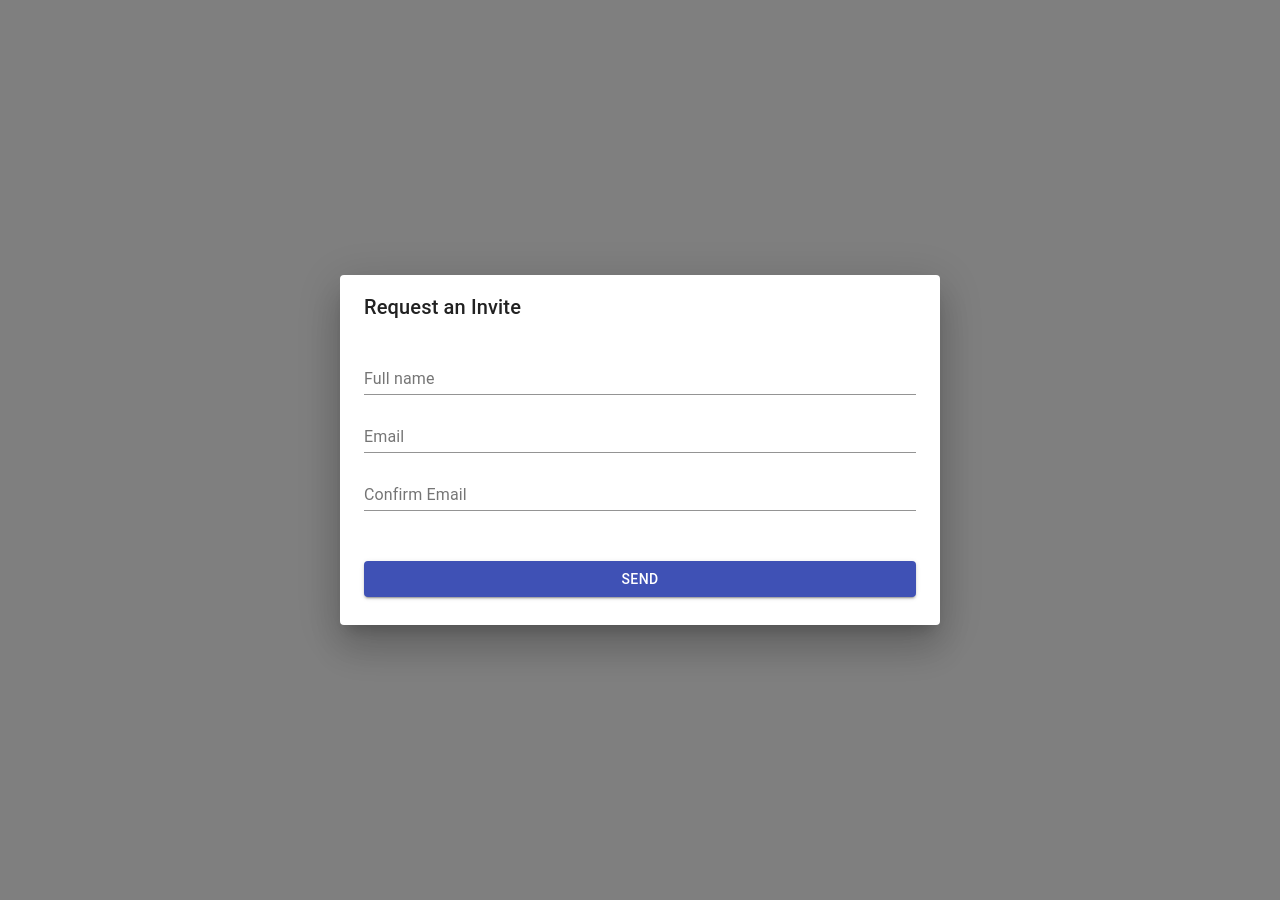
it: Should show error on bad input › Short full name
Type "ss" into the field with placeholder "Please enter full name" at (640,379), box [364,363,916,395]
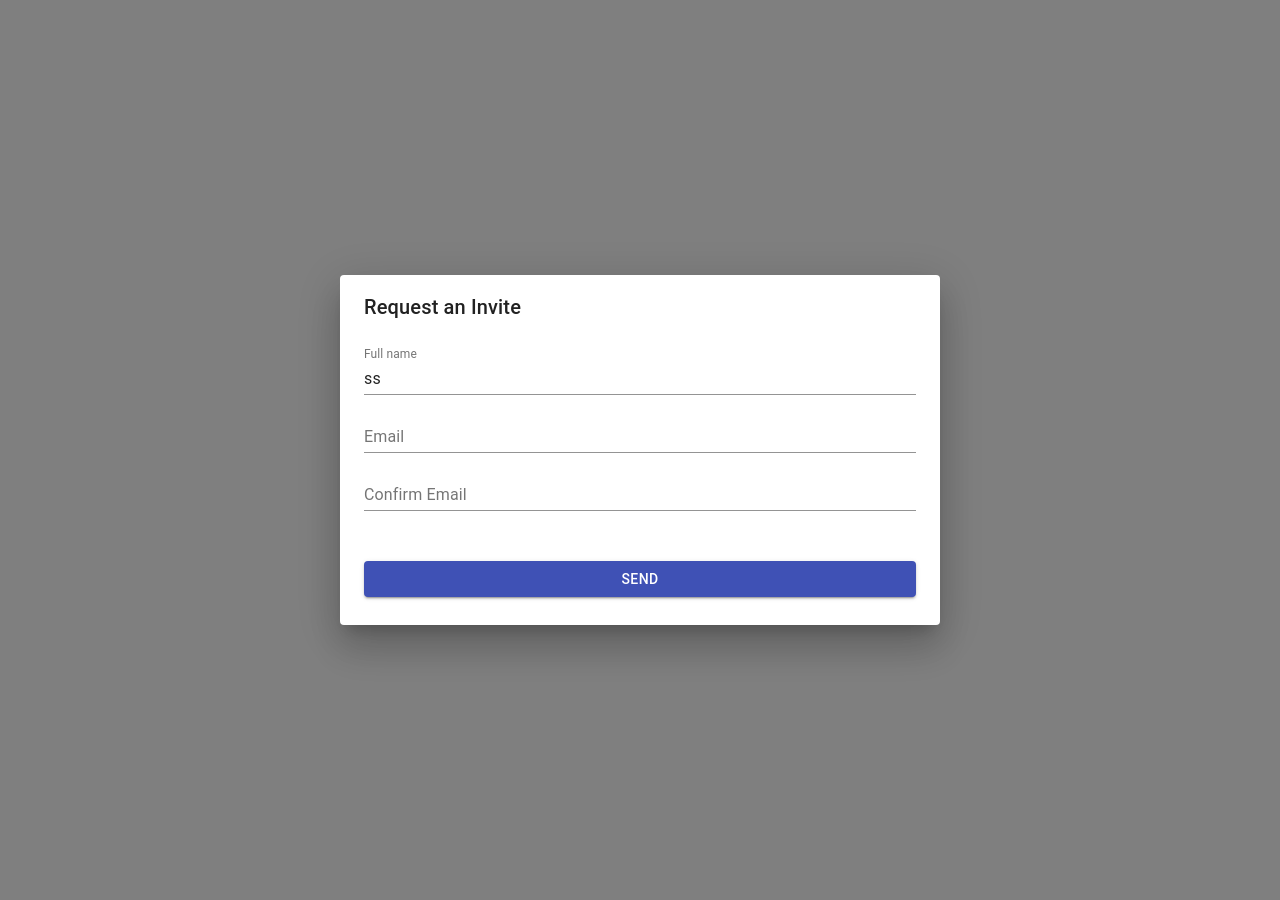
Click the button "Send" at (640,579), box [364,561,916,597]
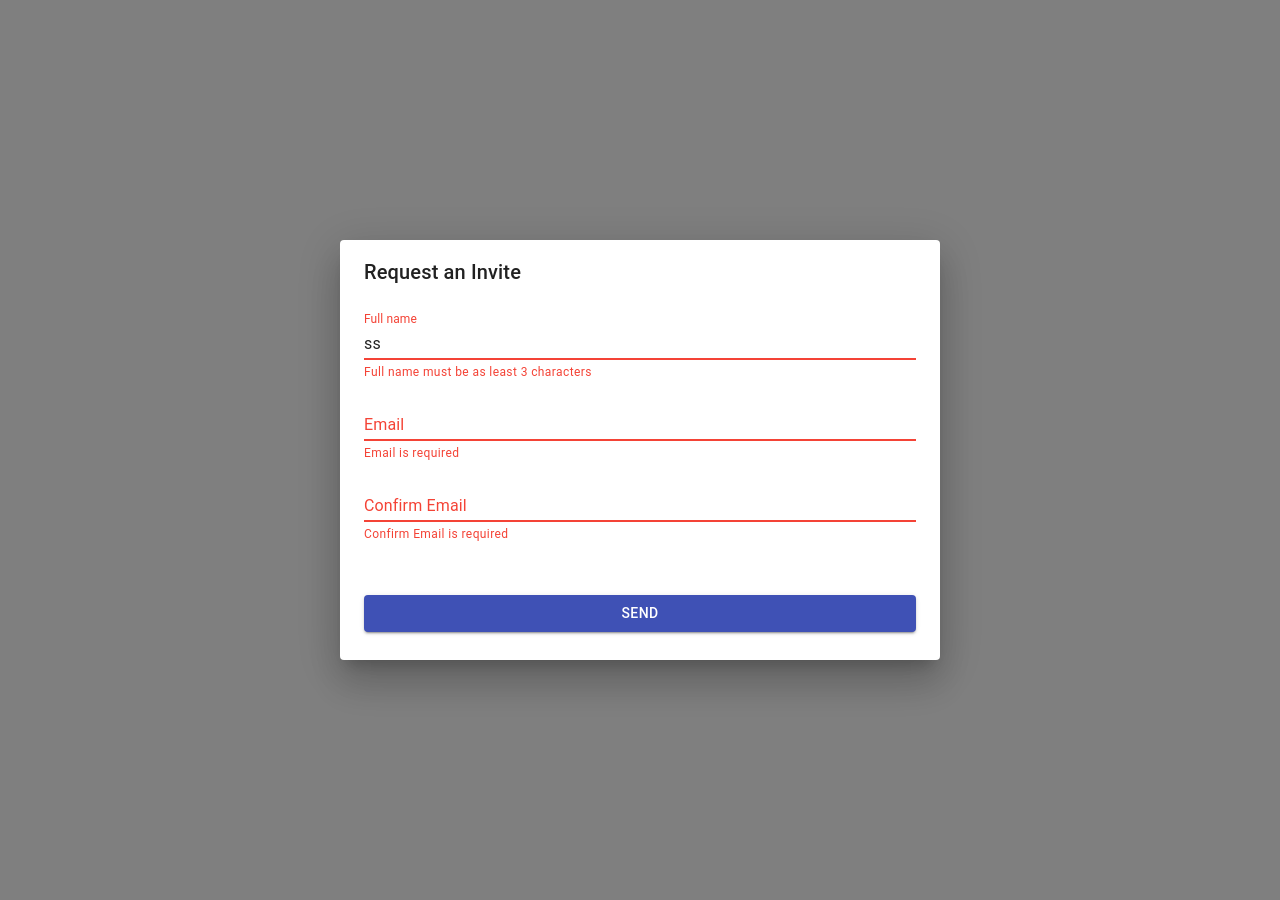
Expected: the text "Full name must be as least 3 characters" is shown, [364,365,592,379]
